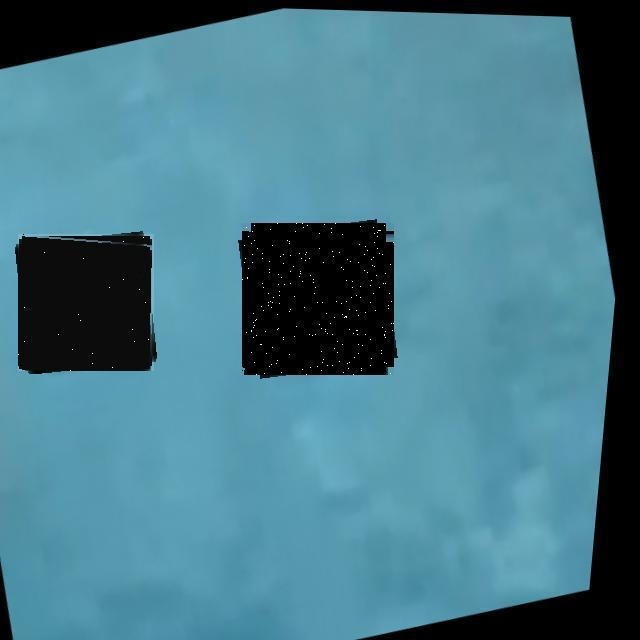swimming: (242, 223, 394, 375), (18, 234, 154, 371)
